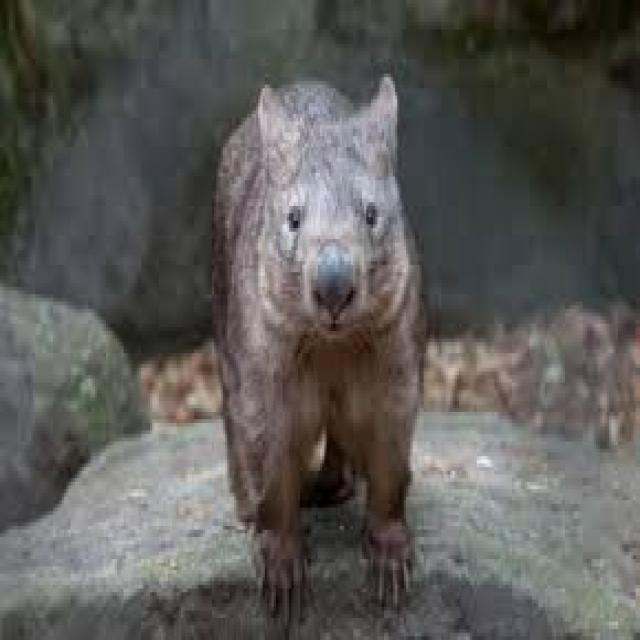Wombat: (212, 53, 438, 630)
